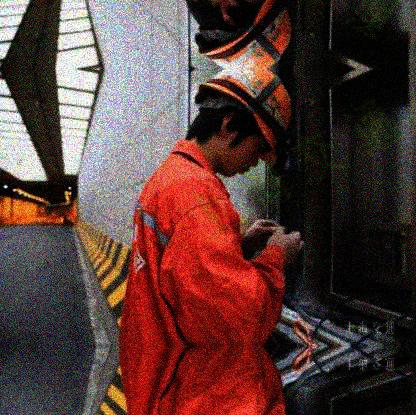helmet: (189, 70, 294, 179), (184, 1, 293, 67)
